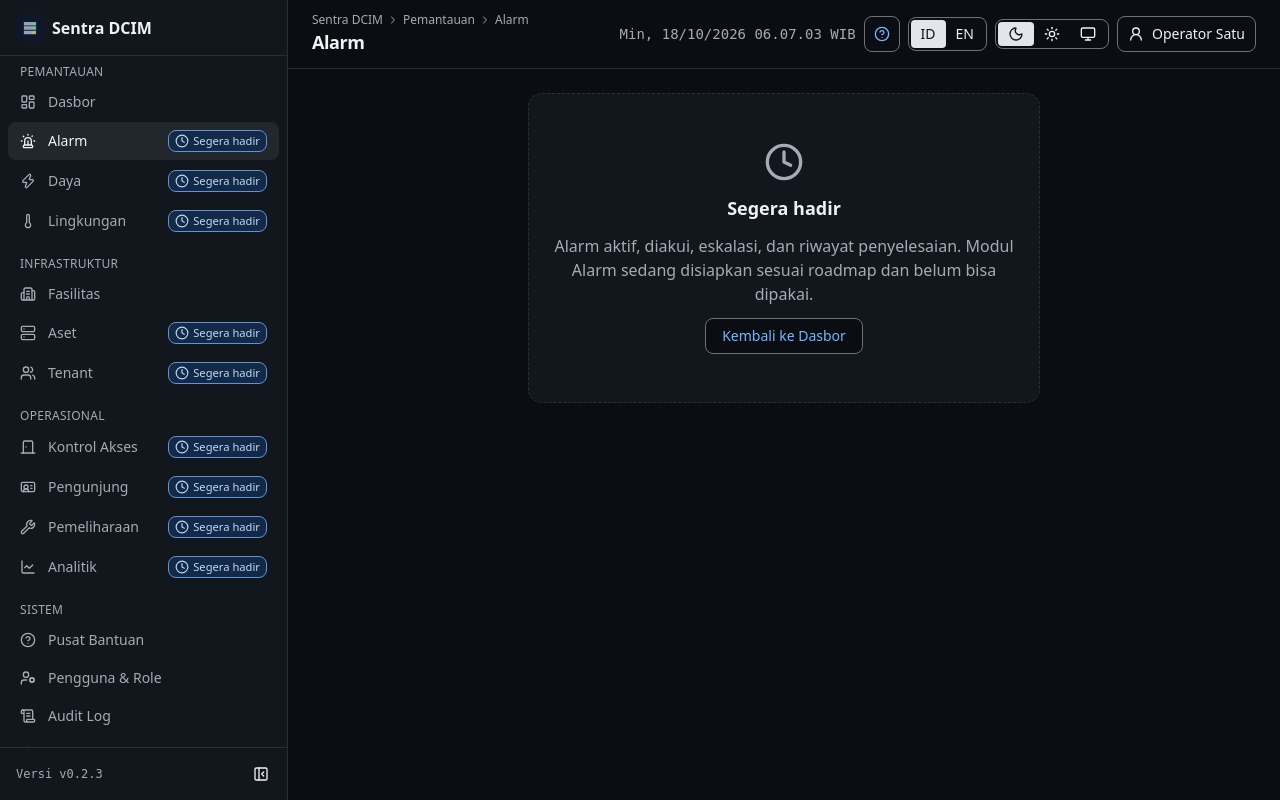
app shell › translates the shell when switching to English
The image size is (1280, 800).
Expected: the element with test id "coming-soon" is shown, [528,93,1040,403]
Click the button with aria-label "English": (965, 34) [946,20,984,48]
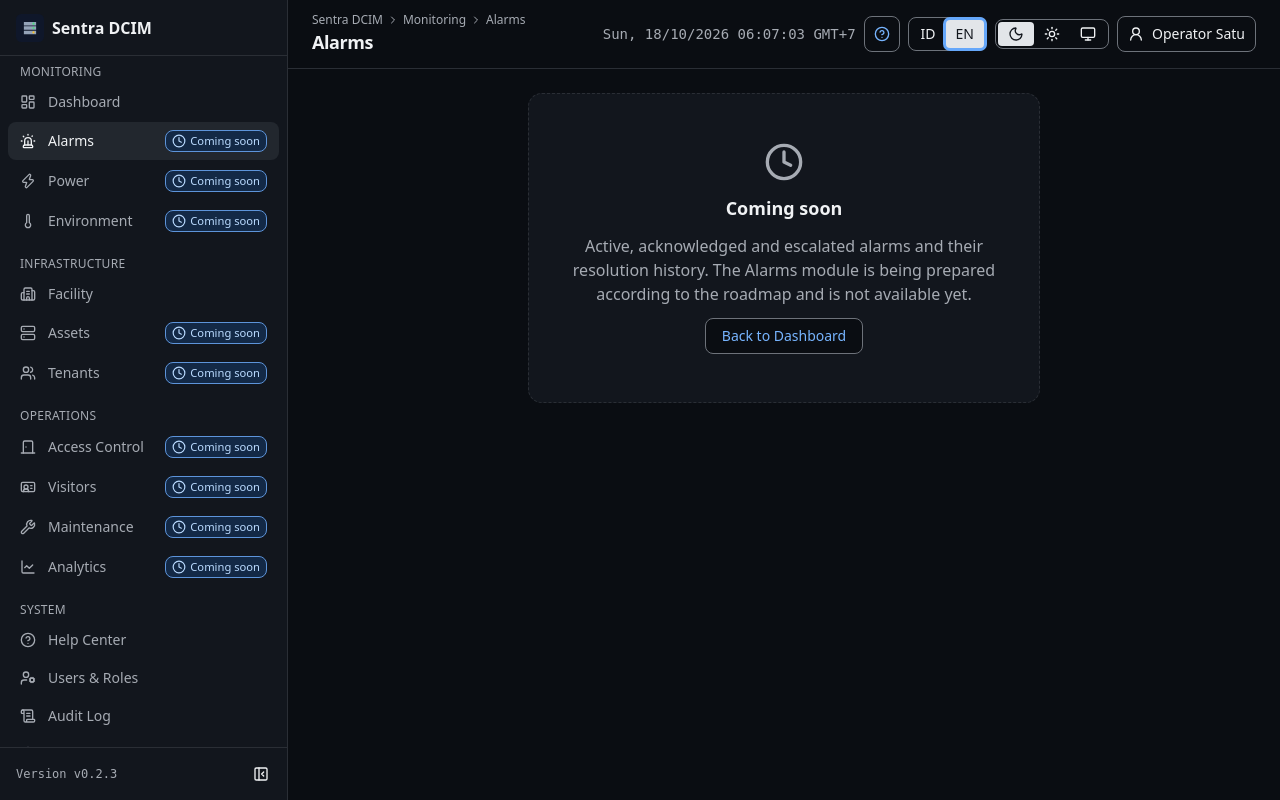
Expected: the heading "Alarms" is shown, [312,30,373,54]
Expected: the element with test id "coming-soon" shows "Coming soon", [726,196,842,220]
